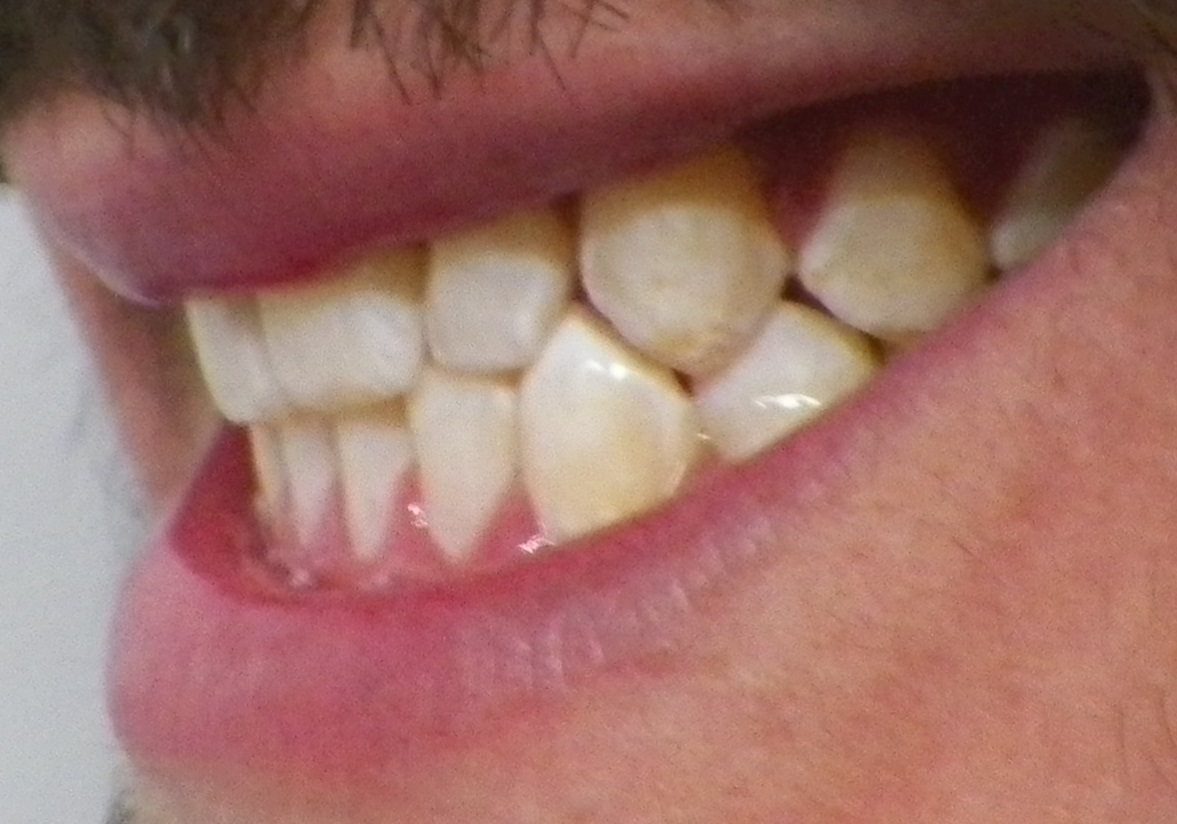boca: (176, 93, 1125, 571)
